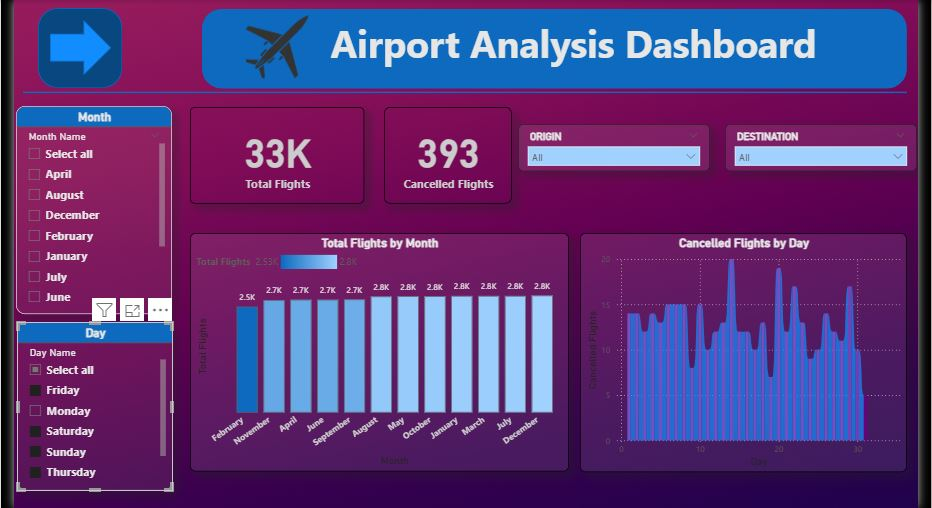

The page's visual inventory and layout, read from the dashboard file:
{"tool":"powerbi","page":{"name":"Overview","canvas":[1280,720],"ordinal":0},"visuals":[{"type":"shape","box":[266.2,12.3,999,112.5],"z":0},{"type":"textbox","box":[444,20.5,756.4,96.5],"z":1000},{"type":"shape","box":[12.3,124.9,1252.8,12.3],"z":2000},{"type":"shape","box":[33.8,10.9,119.4,113.4],"z":3000},{"type":"card","fields":{"Values":["flights_data.Total Flights"]},"box":[249.7,152.3,247,137.2],"z":4000},{"type":"card","fields":{"Values":["flights_data.Cancelled Flights"]},"box":[524.2,152.3,181.1,137.2],"z":5000},{"type":"slicer","fields":{"Values":["flights_data.ORIGIN"]},"box":[714.9,175.6,271.7,67.2],"z":6000},{"type":"slicer","title":"Month","fields":{"Values":["flights_data.Month Name"]},"box":[2.7,149.6,220.9,295],"z":7000},{"type":"slicer","title":"Day","fields":{"Values":["flights_data.Day Name"]},"box":[4.1,456.9,220.9,238.8],"z":8000},{"type":"clusteredColumnChart","fields":{"Category":["flights_data.FL_DATE.Variation.Date Hierarchy.Quarter","flights_data.FL_DATE.Variation.Date Hierarchy.Month"],"Y":["flights_data.Total Flights"]},"box":[249.7,330.6,536.9,337.8],"z":9000},{"type":"ribbonChart","fields":{"Category":["flights_data.FL_DATE.Variation.Date Hierarchy.Year","flights_data.FL_DATE.Variation.Date Hierarchy.Month","flights_data.FL_DATE.Variation.Date Hierarchy.Day"],"Y":["flights_data.Cancelled Flights"]},"box":[802.3,330.6,463.3,339],"z":10000},{"type":"shape","box":[50.7,29,86.9,78.4],"z":11000},{"type":"image","box":[294.8,17,155.9,99.2],"z":12000},{"type":"slicer","fields":{"Values":["flights_data.DESTINATION"]},"box":[1007.7,175.7,272.1,66.6],"z":13000}]}

Visuals, with their boxes on the page's 1280x720 design canvas (x1, y1, x2, y2). These are canvas units, not pixel positions in the 932x508 screenshot, which may show the page scaled, cropped or inside an application window:
shape: box(266, 12, 1265, 125)
textbox: box(444, 20, 1200, 117)
shape: box(12, 125, 1265, 137)
shape: box(34, 11, 153, 124)
card - flights_data.Total Flights: box(250, 152, 497, 290)
card - flights_data.Cancelled Flights: box(524, 152, 705, 290)
slicer - flights_data.ORIGIN: box(715, 176, 987, 243)
"Month" slicer: box(3, 150, 224, 445)
"Day" slicer: box(4, 457, 225, 696)
clusteredColumnChart - flights_data.FL_DATE.Variation.Date Hierarchy.Quarter x flights_data.FL_DATE.Variation.Date Hierarchy.Month: box(250, 331, 787, 668)
ribbonChart - flights_data.FL_DATE.Variation.Date Hierarchy.Year x flights_data.FL_DATE.Variation.Date Hierarchy.Month: box(802, 331, 1266, 670)
shape: box(51, 29, 138, 107)
image: box(295, 17, 451, 116)
slicer - flights_data.DESTINATION: box(1008, 176, 1280, 242)
